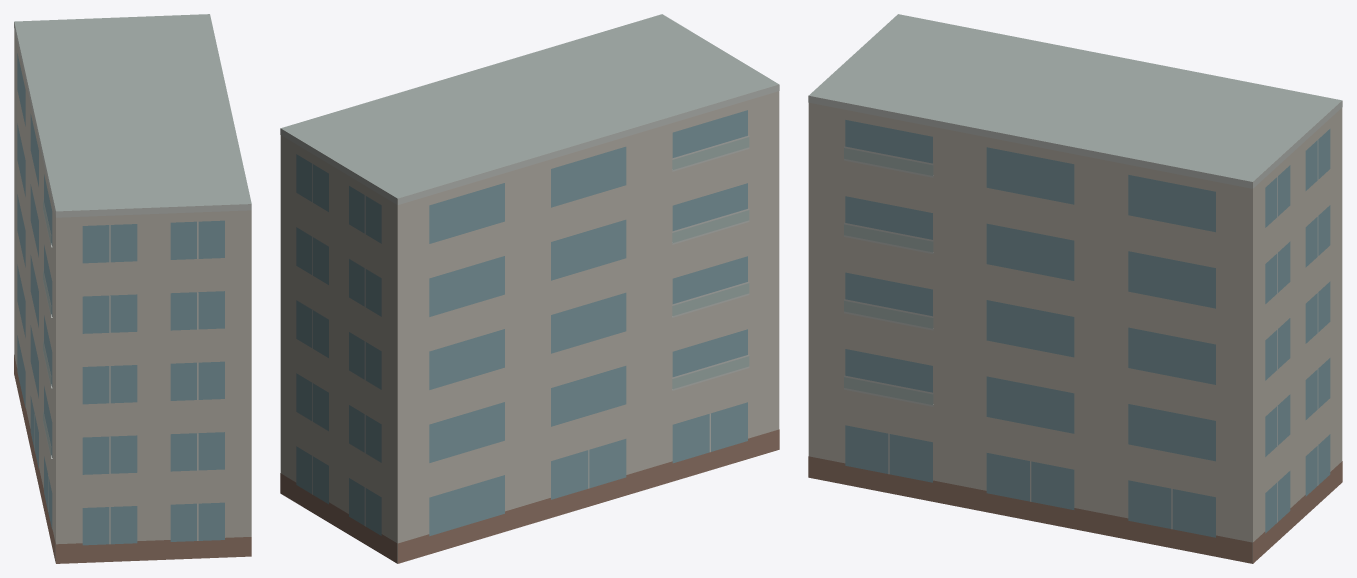
Rendered from survey-upis-32745125.glb.
3 views of the same model, side by side, from view 1: azimuth 30°, elevation 25°; view 2: azimuth 150°, elevation 25°; view 3: azimuth 270°, elevation 25° (orthographic). The views are drawn at different scales.
Visible parts, largest first — view 1: survey-upis-32745125.tmp; view 2: survey-upis-32745125.tmp; view 3: survey-upis-32745125.tmp.
Boxes of the visible parts, bbox=[...] form: survey-upis-32745125.tmp: bbox=[14, 14, 251, 563]; survey-upis-32745125.tmp: bbox=[280, 14, 779, 563]; survey-upis-32745125.tmp: bbox=[808, 14, 1342, 563].
Size of the model in its own units: 12.84 by 13.6 by 17.24.
